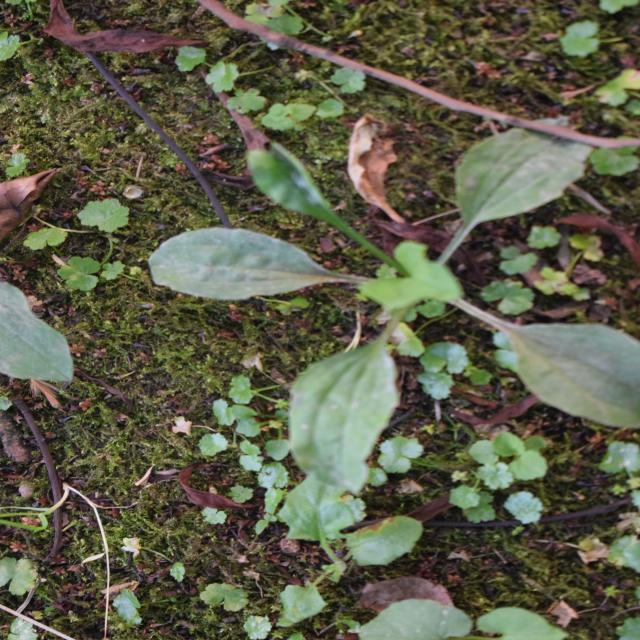plantain: (175, 165, 508, 580)
